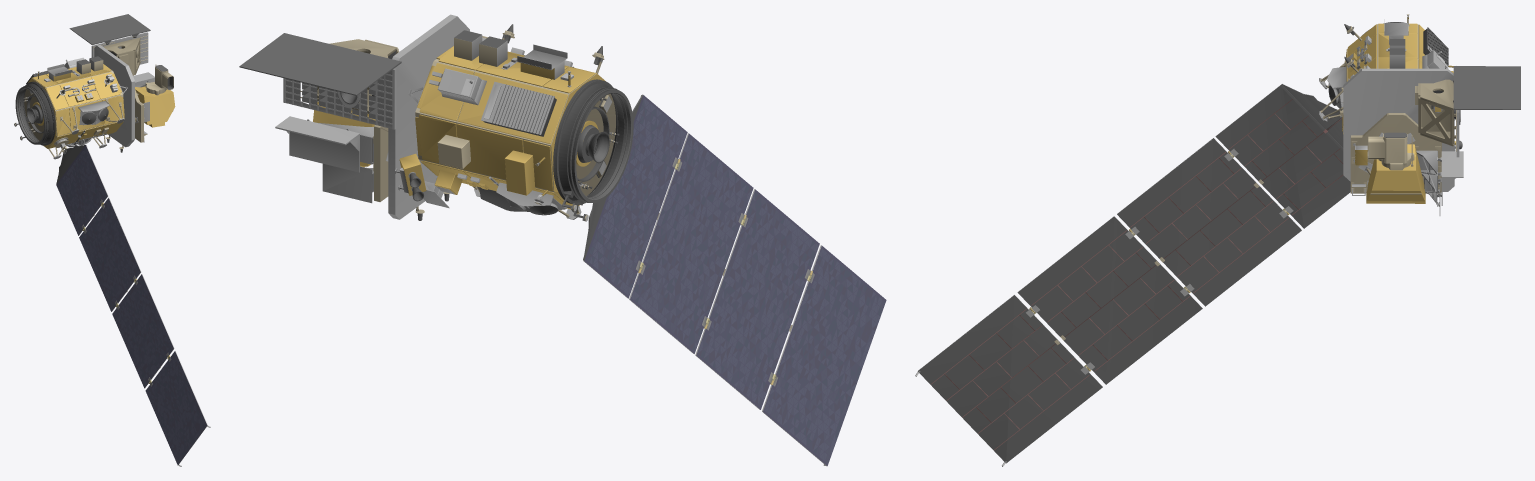
Rendered from landsat8.glb.
3 views of the same model, side by side, from view 1: azimuth 30°, elevation 25°; view 2: azimuth 150°, elevation 25°; view 3: azimuth 270°, elevation 25° (orthographic). The views are drawn at different scales.
Parts seen in each view (by area): view 1: Layer_0; view 2: Layer_0; view 3: Layer_0.
Boxes of the visible parts, x1,y1,x2,y2 form: Layer_0: [14, 14, 210, 466]; Layer_0: [239, 14, 886, 466]; Layer_0: [915, 14, 1520, 466].
Bounding box in the file's own units: 4.97 × 10.04 × 12.26.
